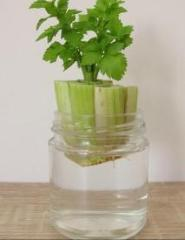glass: (48, 109, 150, 239)
